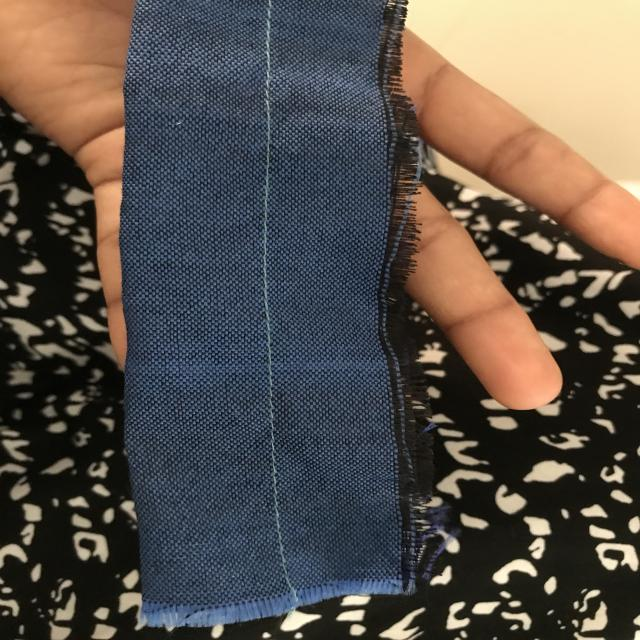good: (246, 278, 292, 373)
